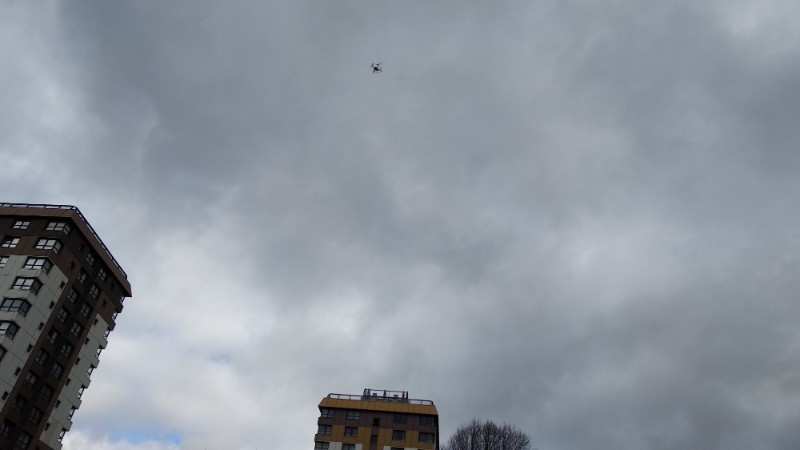drone: (370, 62, 382, 72)
